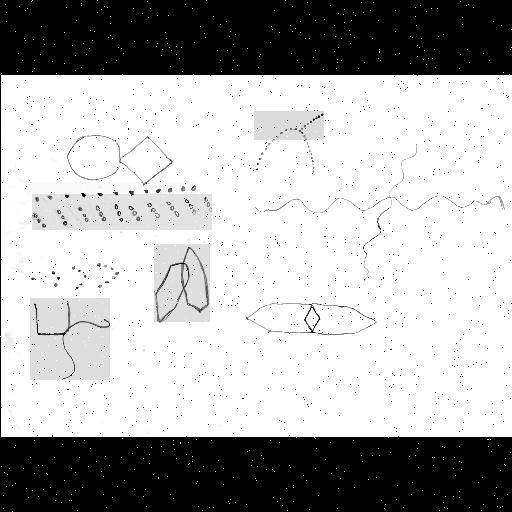shape-1: (64, 132, 174, 186)
shape-2: (32, 182, 198, 204)
shape-3: (32, 194, 212, 230)
shape-4: (29, 259, 121, 293)
shape-5: (30, 298, 110, 380)
shape-6: (254, 111, 324, 177)
shape-7: (250, 140, 506, 284)
shape-8: (154, 244, 210, 322)
shape-9: (244, 302, 376, 338)
